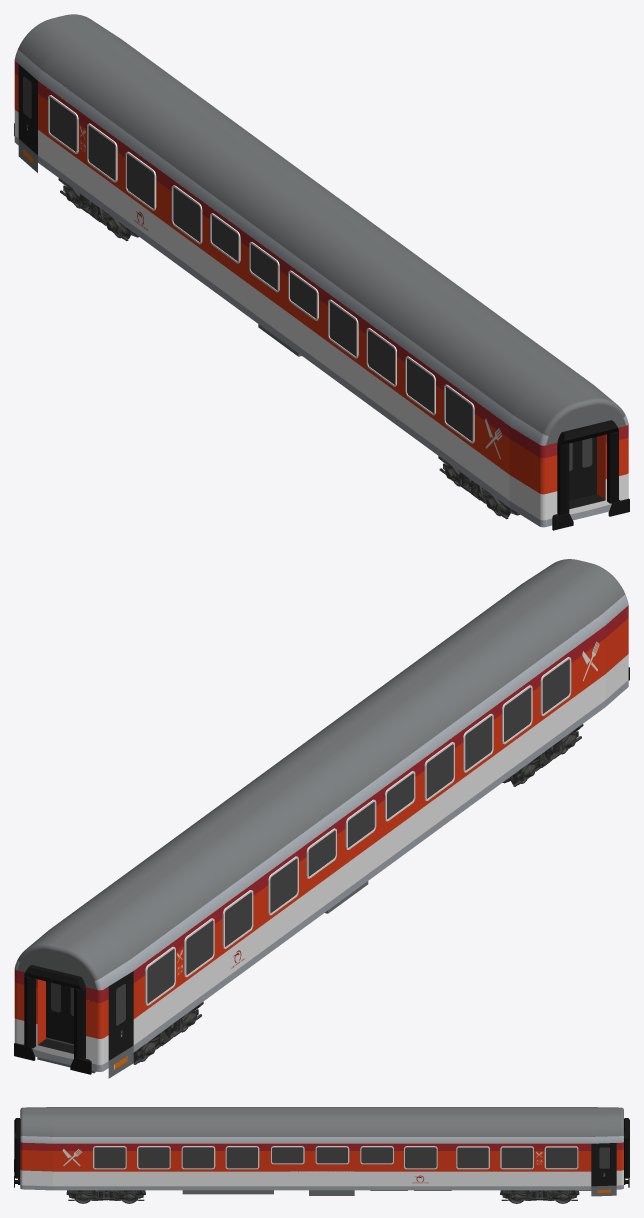
File: wrrm.glb
3 renders of one model, top to bottom at view 1: azimuth 30°, elevation 25°; view 2: azimuth 150°, elevation 25°; view 3: azimuth 270°, elevation 25°, orthographic. The views are drawn at different scales.
Visible parts, largest first — view 1: wrrm.009, okno ampeer.017, DB218_Chassis_Boggies.109, DB218_Chassis_Boggies.108; view 2: wrrm.009, okno ampeer.017, DB218_Chassis_Boggies.109, DB218_Chassis_Boggies.108; view 3: wrrm.009, okno ampeer.017, DB218_Chassis_Boggies.109, DB218_Chassis_Boggies.108, bmz podvozok.008, pikgogramy restauracia.001.
Boxes of the visible parts, x1,y1,x2,y2 form: wrrm.009: [14, 14, 629, 530]; okno ampeer.017: [48, 95, 474, 443]; DB218_Chassis_Boggies.109: [438, 456, 519, 519]; DB218_Chassis_Boggies.108: [58, 178, 138, 241]; wrrm.009: [14, 559, 629, 1078]; okno ampeer.017: [145, 657, 571, 1005]; DB218_Chassis_Boggies.109: [502, 724, 583, 786]; DB218_Chassis_Boggies.108: [133, 1002, 203, 1064]; wrrm.009: [14, 1107, 629, 1196]; okno ampeer.017: [93, 1146, 578, 1169]; DB218_Chassis_Boggies.109: [66, 1190, 145, 1203]; DB218_Chassis_Boggies.108: [500, 1190, 579, 1203]; bmz podvozok.008: [182, 1190, 591, 1195]; pikgogramy restauracia.001: [62, 1149, 604, 1183].
Bounding box in the file's own units: 2.83 × 4.05 × 26.84.
18 materials, 4 textured.
